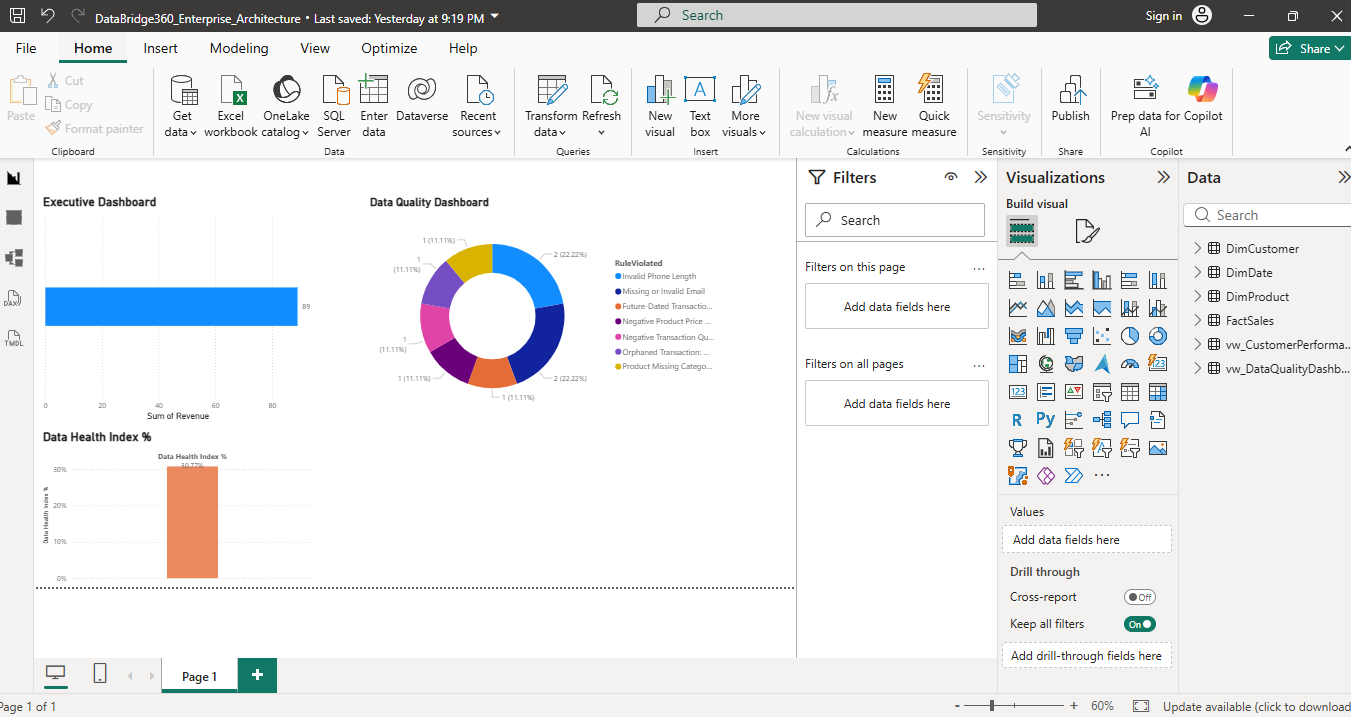

Layout of this report page (visuals, bound fields, positions):
{"tool":"powerbi","page":{"name":"Page 1","canvas":[1280,720],"ordinal":0},"visuals":[{"type":"donutChart","title":"Data Quality Dashboard","fields":{"Category":["vw_DataQualityDashboard.RuleViolated"],"Y":["Sum(vw_DataQualityDashboard.TotalViolations)"]},"box":[559.4,62.2,598,384.7],"z":0},{"type":"barChart","title":"Executive Dashboard","fields":{"Y":["Sum(FactSales.Revenue)"]},"box":[10.1,62.2,467,384.7],"z":1000},{"type":"clusteredColumnChart","fields":{"Y":["FactSales.Data Health Index %"]},"box":[10,457,467,263],"z":1001}]}

Visuals, with their boxes on the page's 1280x720 design canvas (x1, y1, x2, y2). These are canvas units, not pixel positions in the 1351x717 screenshot, which may show the page scaled, cropped or inside an application window:
"Data Quality Dashboard" donutChart: (559, 62, 1157, 447)
"Executive Dashboard" barChart: (10, 62, 477, 447)
clusteredColumnChart - FactSales.Data Health Index %: (10, 457, 477, 720)
